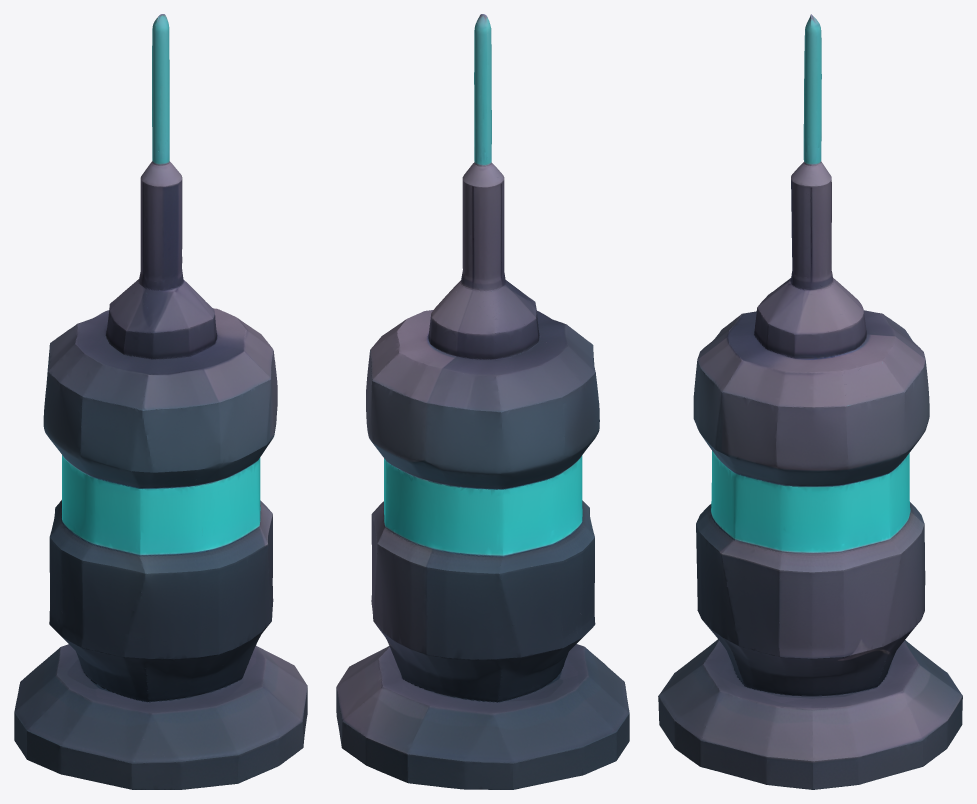
The model's file is base_basic_pbr.fbx.
The picture shows the model from 3 angles, left to right: view 1: azimuth 30°, elevation 25°; view 2: azimuth 150°, elevation 25°; view 3: azimuth 270°, elevation 25°; orthographic projection.
Parts seen in each view (by area): view 1: model; view 2: model; view 3: model.
Boxes of the visible parts, x1,y1,x2,y2 form: model: (14,14,307,789); model: (336,14,629,789); model: (658,14,962,789).
Size of the model in its own units: 73.09 by 190 by 72.44.
Materials: 1 (1 with a texture image).
